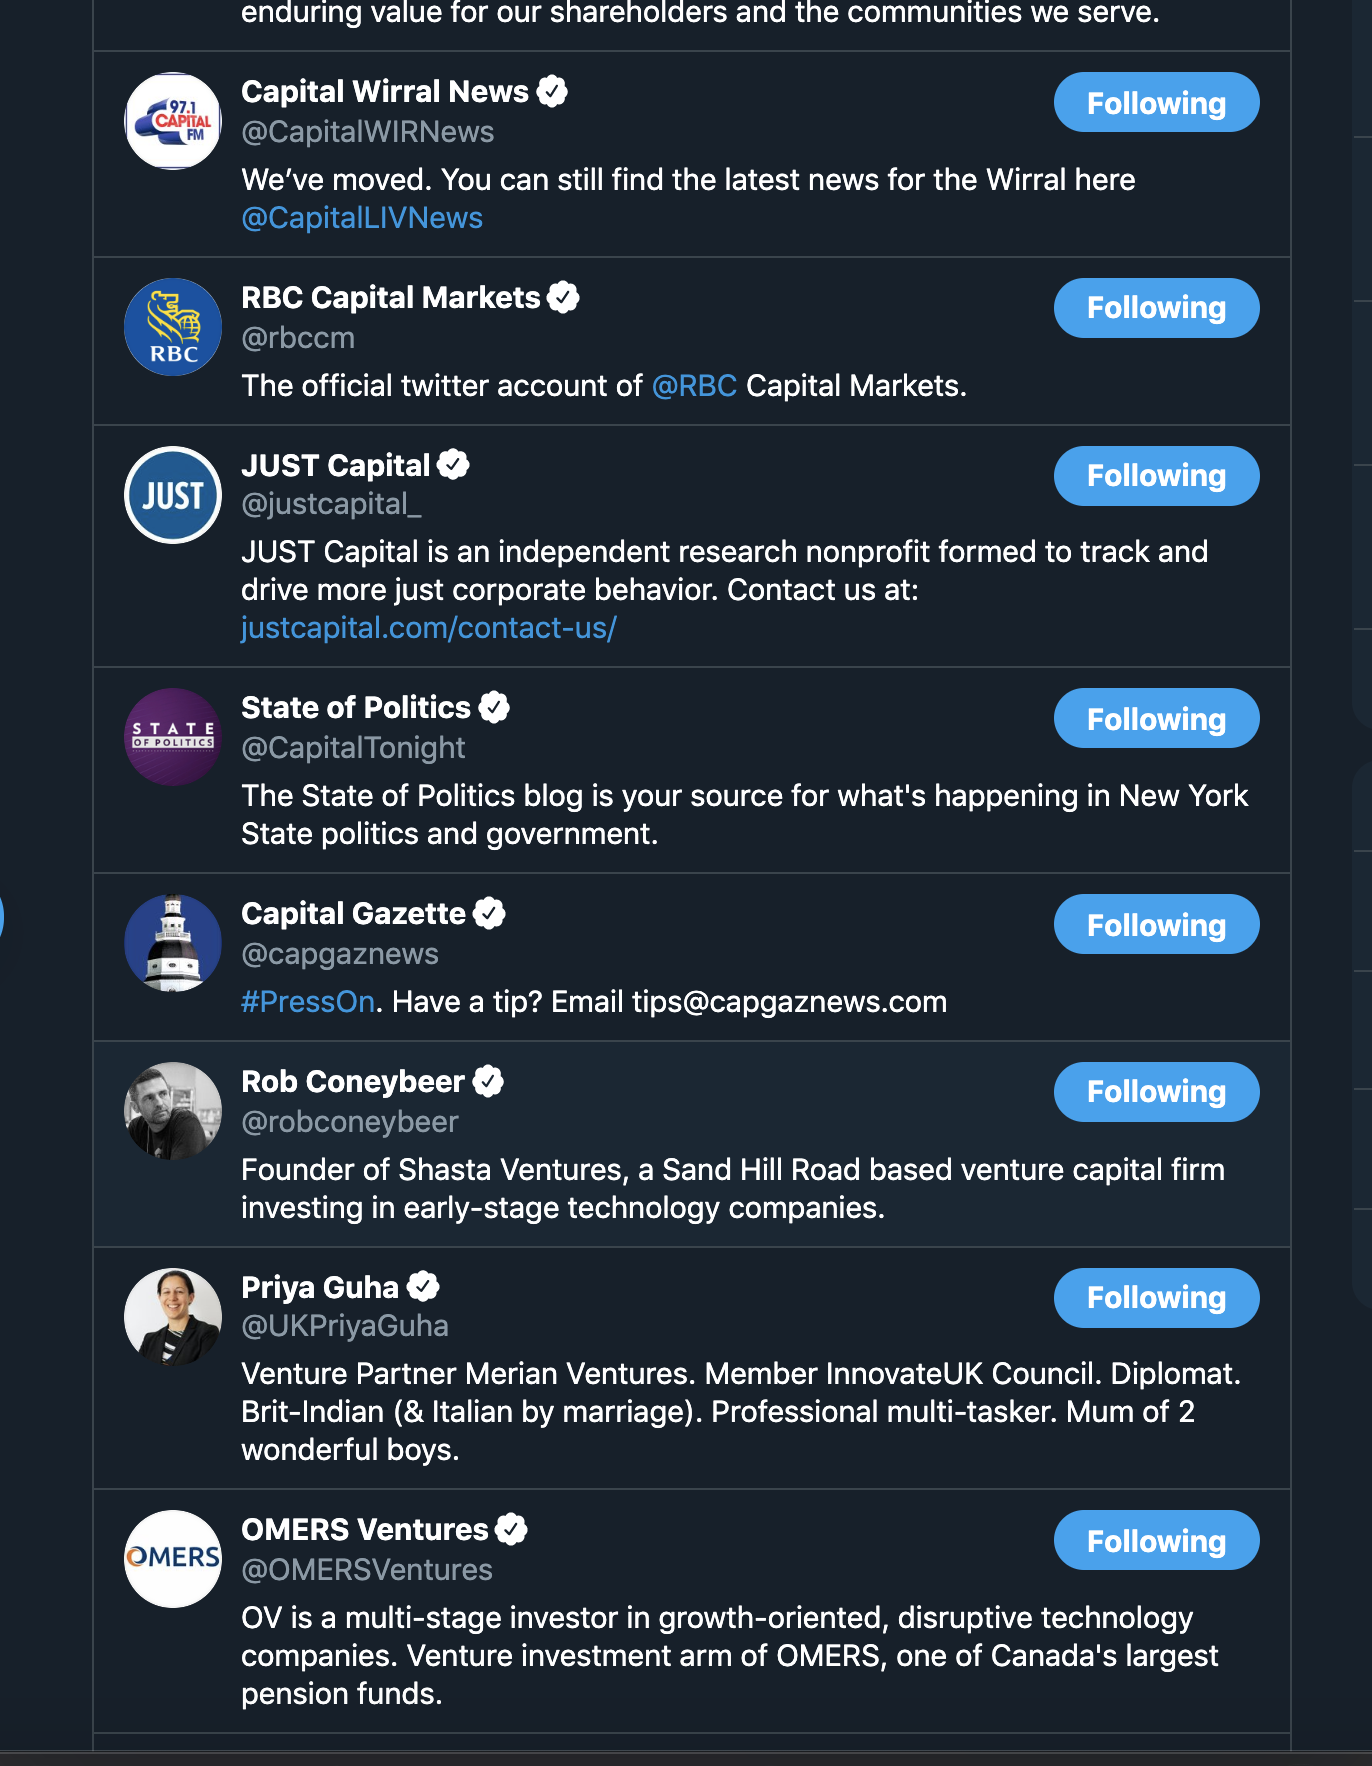following button: (1045, 1055, 1272, 1132), (1044, 679, 1264, 757), (1052, 439, 1266, 517), (1051, 1507, 1266, 1583), (1051, 887, 1262, 965), (1058, 272, 1270, 345), (1057, 70, 1264, 143), (1054, 1264, 1266, 1333)
